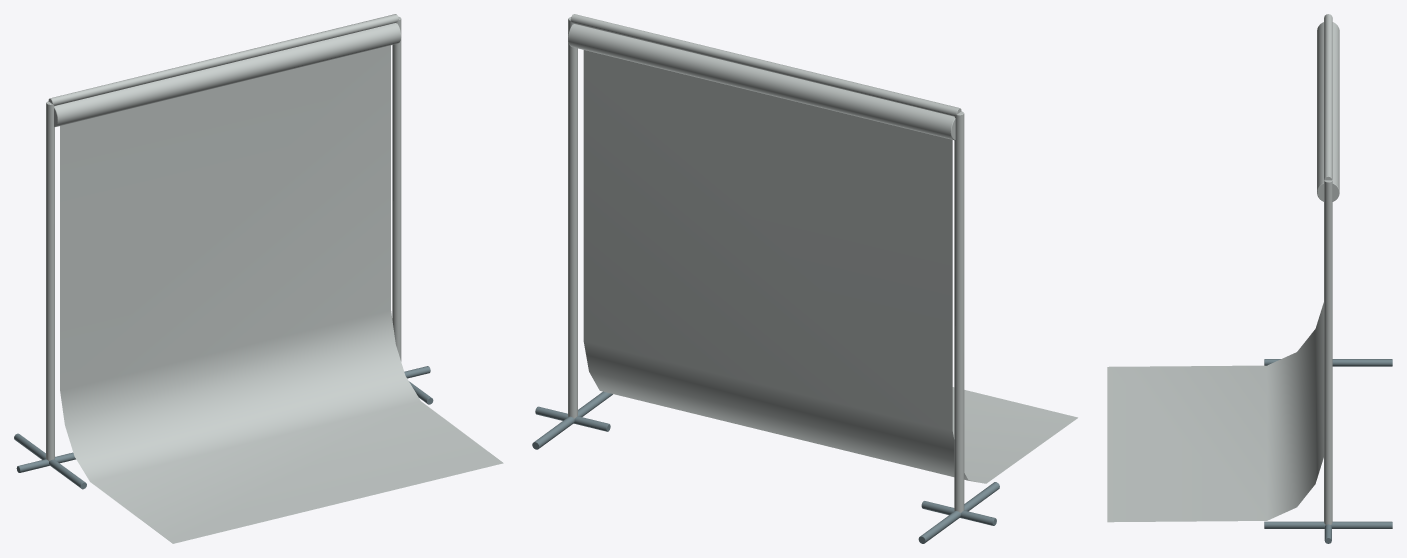
File: backdrop-sweep.glb
3 renders of one model, left to right at view 1: azimuth 30°, elevation 25°; view 2: azimuth 150°, elevation 25°; view 3: azimuth 270°, elevation 25°, orthographic. The views are drawn at different scales.
Visible parts, largest first — view 1: continuous_paper_sweep, paper_roll, top_crossbar, support_pole, support_pole.001, stand_foot; view 2: continuous_paper_sweep, paper_roll, support_pole, top_crossbar, support_pole.001, stand_foot, stand_foot.001; view 3: continuous_paper_sweep, support_pole.001, paper_roll, top_crossbar, stand_foot.001, stand_foot.
Boxes of the visible parts, x1,y1,x2,y2 form: continuous_paper_sweep: (60,45,503,543); paper_roll: (54,23,401,127); top_crossbar: (48,14,398,105); support_pole: (46,101,54,460); support_pole.001: (392,16,401,361); stand_foot: (14,433,86,489); continuous_paper_sweep: (583,50,1077,483); paper_roll: (568,24,955,140); support_pole: (954,111,964,512); top_crossbar: (570,14,961,116); support_pole.001: (568,17,577,418); stand_foot: (918,482,999,543); stand_foot.001: (532,391,612,449); continuous_paper_sweep: (1107,302,1323,522); support_pole.001: (1324,180,1332,524); paper_roll: (1317,22,1339,201); top_crossbar: (1324,14,1332,180); stand_foot.001: (1264,521,1392,528); stand_foot: (1264,359,1392,366).
Bounding box in the file's own units: 3.2 × 2.73 × 2.
